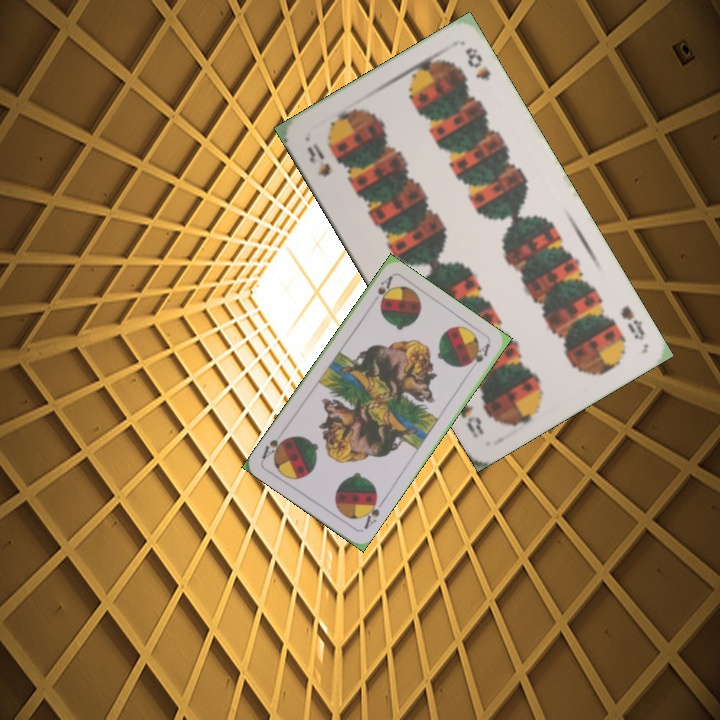S8: (616, 301, 648, 344), (303, 138, 334, 180)
SA: (358, 493, 386, 532), (367, 272, 395, 309)
